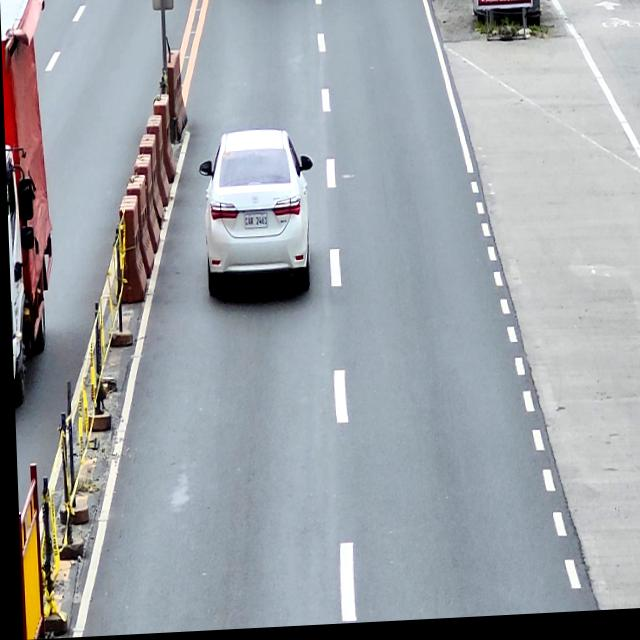Car: (196, 131, 315, 303)
License-Plate: (242, 216, 267, 232)
Truck: (0, 0, 57, 409)
